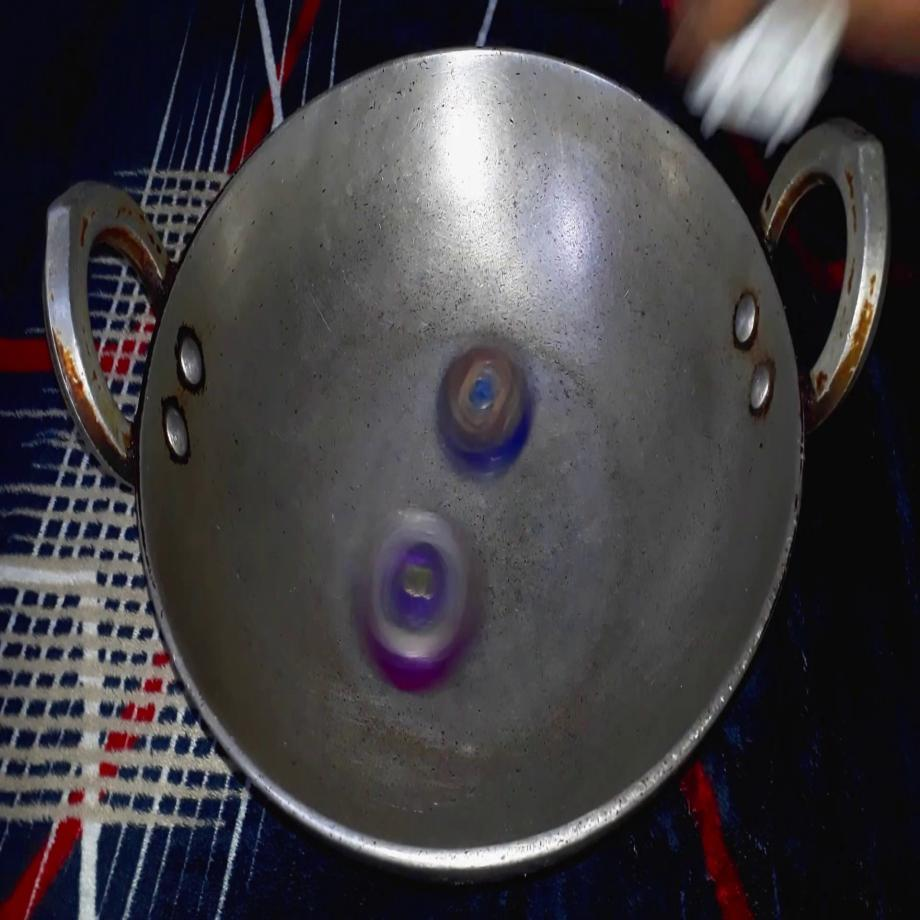beyblade: (346, 495, 497, 706), (431, 333, 542, 493)
